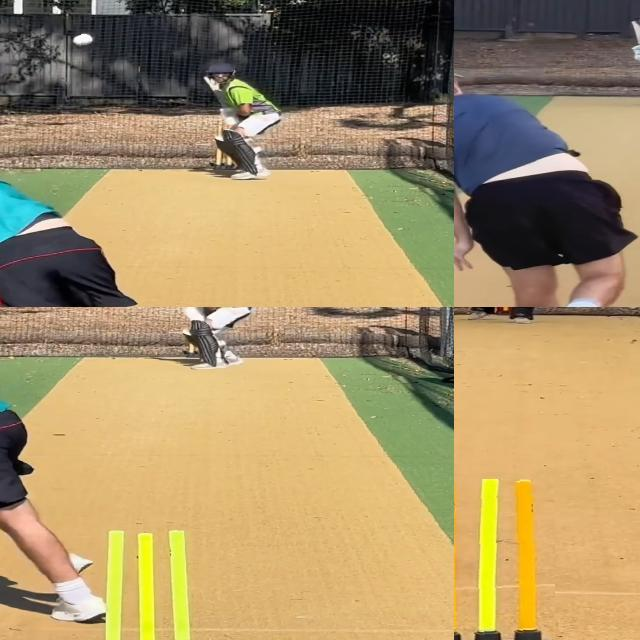Cricket ball: (71, 31, 98, 48)
Stumps: (454, 479, 554, 640), (87, 528, 212, 640)
